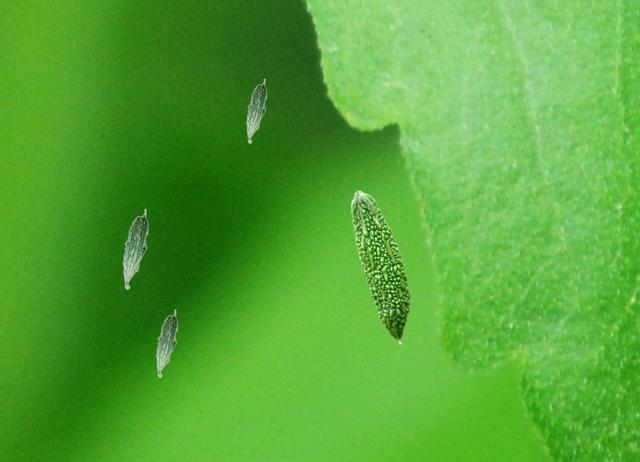ampalaya: (350, 190, 412, 347), (122, 208, 148, 290), (155, 309, 178, 378), (246, 78, 267, 144)
